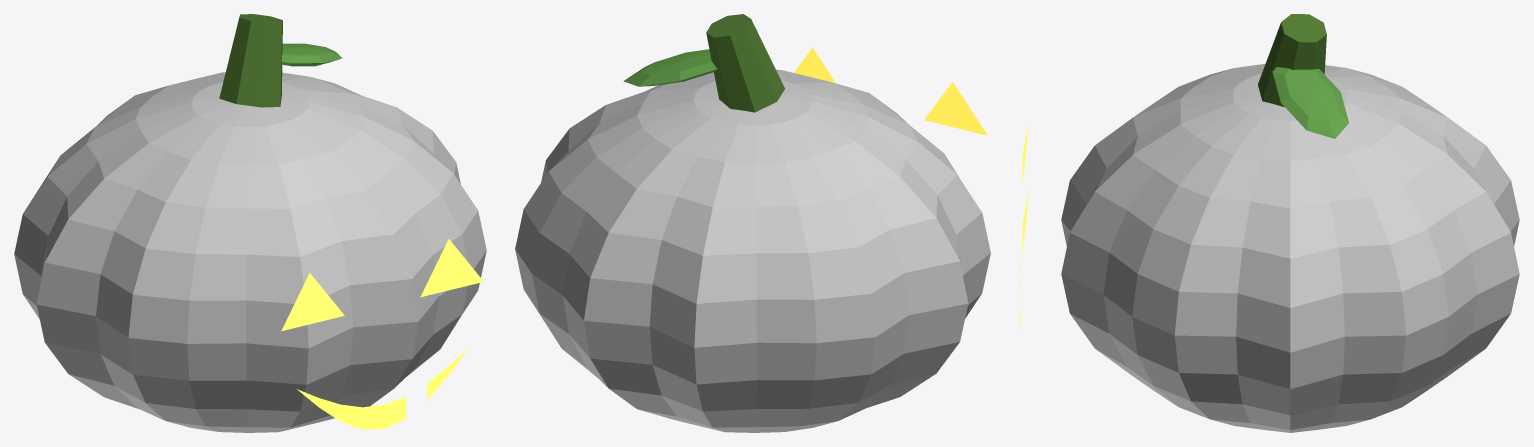
File: ev_pumpkin_lantern_v01.glb
3 renders of one model, left to right at view 1: azimuth 30°, elevation 25°; view 2: azimuth 150°, elevation 25°; view 3: azimuth 270°, elevation 25°, orthographic.
Visible parts, largest first — view 1: pumpkin_lantern; view 2: pumpkin_lantern; view 3: pumpkin_lantern.
Boxes of the visible parts, box(x1,y1,x2,y2) form: pumpkin_lantern: box(14, 14, 486, 432); pumpkin_lantern: box(515, 14, 990, 432); pumpkin_lantern: box(1019, 14, 1519, 432).
Bounding box in the file's own units: 0.7383 × 0.6351 × 0.7381.
